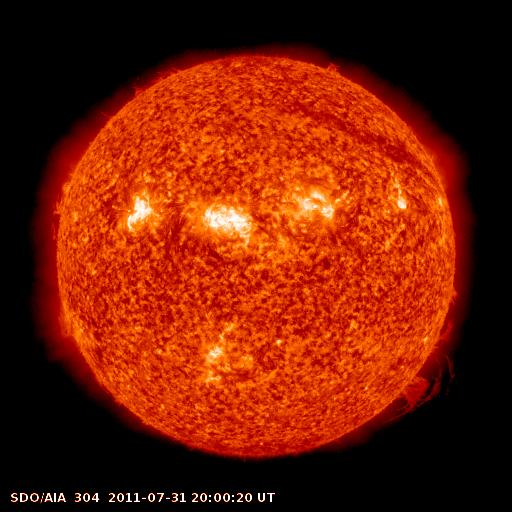prominence: (391, 347, 454, 425), (428, 285, 467, 346), (45, 169, 77, 240), (127, 63, 183, 99), (52, 306, 83, 343), (312, 54, 350, 84)
